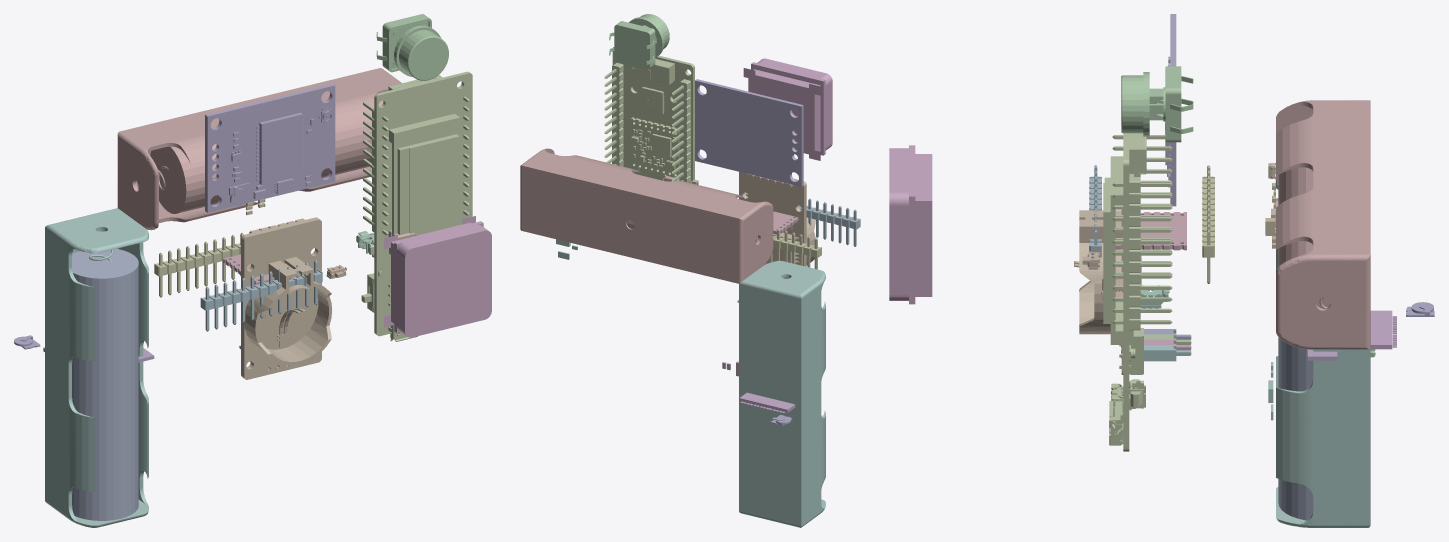
File: agrosat.glb
3 views of the same model, side by side, from view 1: azimuth 30°, elevation 25°; view 2: azimuth 150°, elevation 25°; view 3: azimuth 270°, elevation 25° (orthographic). The views are drawn at different scales.
Parts seen in each view (by area): view 1: TTGO lora32 T3 v1.6.1 Assem, COMPOUND003, 18650 Battery Holder v5, 35v 18650 v005, NEO-M8N v6, HW-84 v114, antena gps, Push Button v013, 13-Pin Header - Male - 2.54mm.step001, 13-Pin Header - Male - 2.54mm.step003; view 2: 18650 Battery Holder v5, COMPOUND003, TTGO lora32 T3 v1.6.1 Assem, NEO-M8N v6, antena gps, HW-84 v114, Push Button v013, 13-Pin Header - Male - 2.54mm.step001, 13-Pin Header - Male - 2.54mm.step003, Ublox_Chipset029; view 3: 18650 Battery Holder v5, COMPOUND003, TTGO lora32 T3 v1.6.1 Assem, antena gps, Push Button v013, HW-84 v114, 35v 18650 v005, RFM95 LoRa v15.step, 13-Pin Header - Male - 2.54mm.step003, Ublox_Chipset029, NEO-M8N v6, 13-Pin Header - Male - 2.54mm.step001 (+1 smaller).
Boxes of the visible parts, bbox=[...] form: TTGO lora32 T3 v1.6.1 Assem: bbox=[361, 71, 472, 341]; COMPOUND003: bbox=[45, 208, 148, 527]; 18650 Battery Holder v5: bbox=[117, 68, 401, 230]; 35v 18650 v005: bbox=[72, 248, 138, 520]; NEO-M8N v6: bbox=[205, 83, 335, 212]; HW-84 v114: bbox=[241, 217, 332, 379]; antena gps: bbox=[384, 216, 491, 337]; Push Button v013: bbox=[376, 14, 448, 80]; 13-Pin Header - Male - 2.54mm.step001: bbox=[200, 260, 322, 331]; 13-Pin Header - Male - 2.54mm.step003: bbox=[154, 226, 269, 297]; 18650 Battery Holder v5: bbox=[520, 148, 773, 283]; COMPOUND003: bbox=[739, 260, 825, 527]; TTGO lora32 T3 v1.6.1 Assem: bbox=[604, 47, 694, 183]; NEO-M8N v6: bbox=[695, 79, 803, 186]; antena gps: bbox=[743, 58, 832, 160]; HW-84 v114: bbox=[739, 172, 815, 278]; Push Button v013: bbox=[609, 14, 669, 69]; 13-Pin Header - Male - 2.54mm.step001: bbox=[798, 198, 860, 246]; 13-Pin Header - Male - 2.54mm.step003: bbox=[755, 229, 821, 269]; Ublox_Chipset029: bbox=[739, 392, 795, 413]; 18650 Battery Holder v5: bbox=[1276, 100, 1370, 349]; COMPOUND003: bbox=[1276, 179, 1370, 527]; TTGO lora32 T3 v1.6.1 Assem: bbox=[1103, 133, 1172, 451]; antena gps: bbox=[889, 145, 932, 304]; Push Button v013: bbox=[1121, 66, 1193, 142]; HW-84 v114: bbox=[1074, 209, 1141, 374]; 35v 18650 v005: bbox=[1278, 337, 1313, 520]; RFM95 LoRa v15.step: bbox=[1115, 212, 1186, 250]; 13-Pin Header - Male - 2.54mm.step003: bbox=[1202, 165, 1214, 283]; Ublox_Chipset029: bbox=[1370, 310, 1396, 349]; NEO-M8N v6: bbox=[1165, 14, 1176, 206]; 13-Pin Header - Male - 2.54mm.step001: bbox=[1089, 165, 1101, 257].
Size of the model in its own units: 97.27 by 128 by 110.
